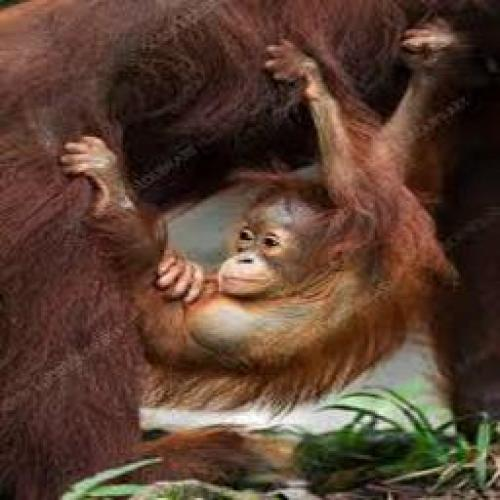orangutan-endangered: (61, 25, 473, 403)
